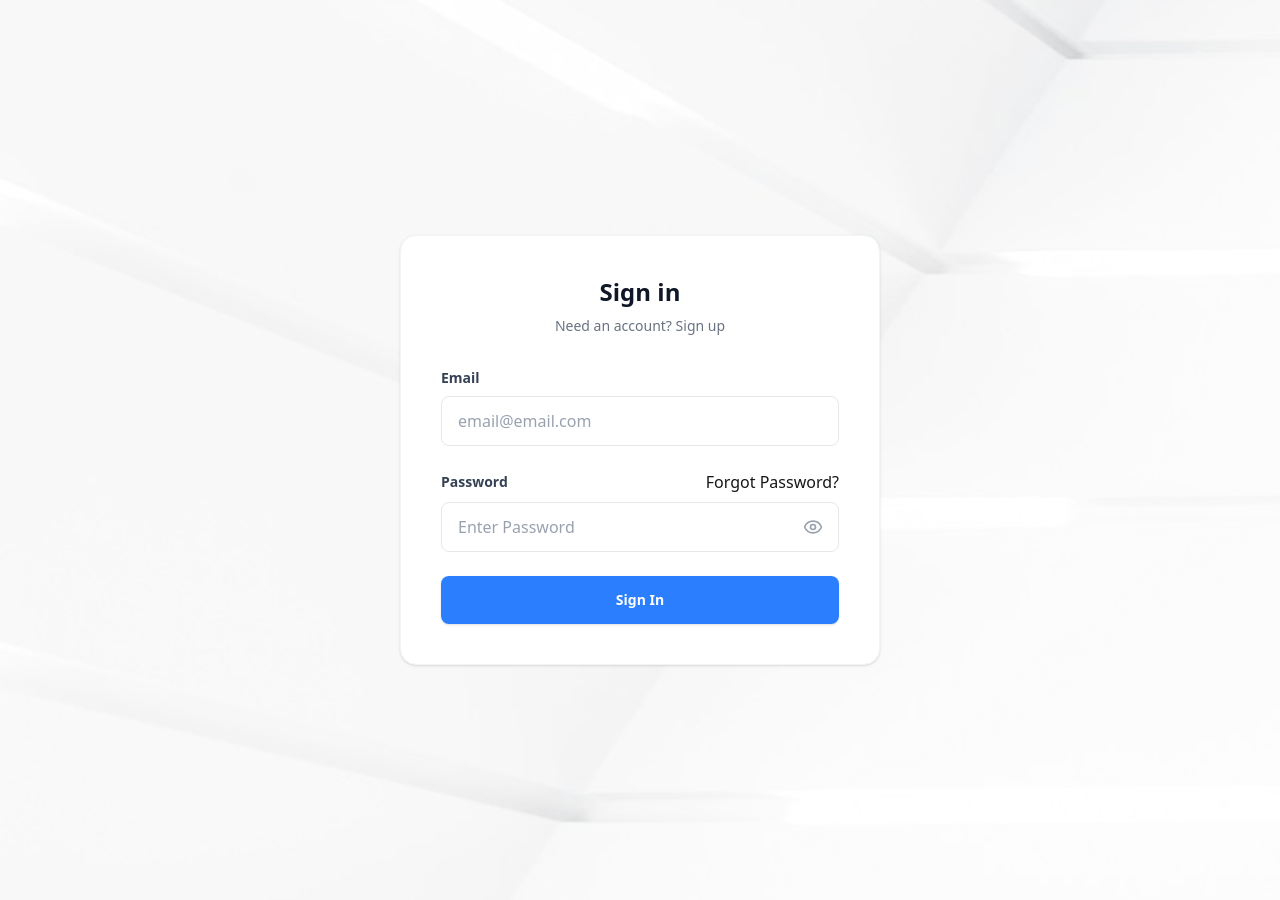
Test: Login Page › handles login error
The image size is (1280, 900).
Type "test@test.com" into the field with placeholder "email@email.com". click: (640,421)
box: [441, 396, 839, 446]
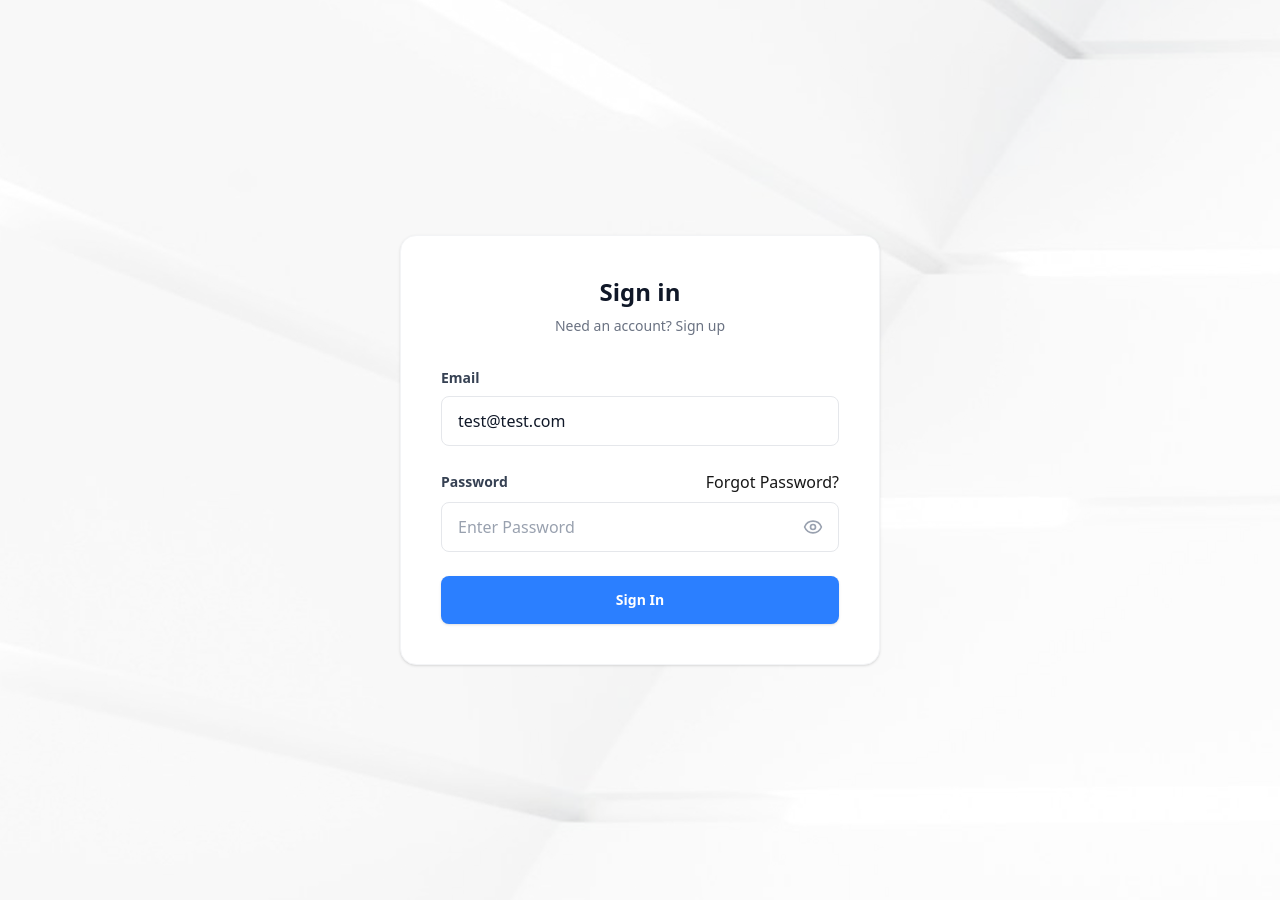
Type "wrongpassword" into the password field with placeholder "Enter Password". click: (640,527)
box: [441, 502, 839, 552]
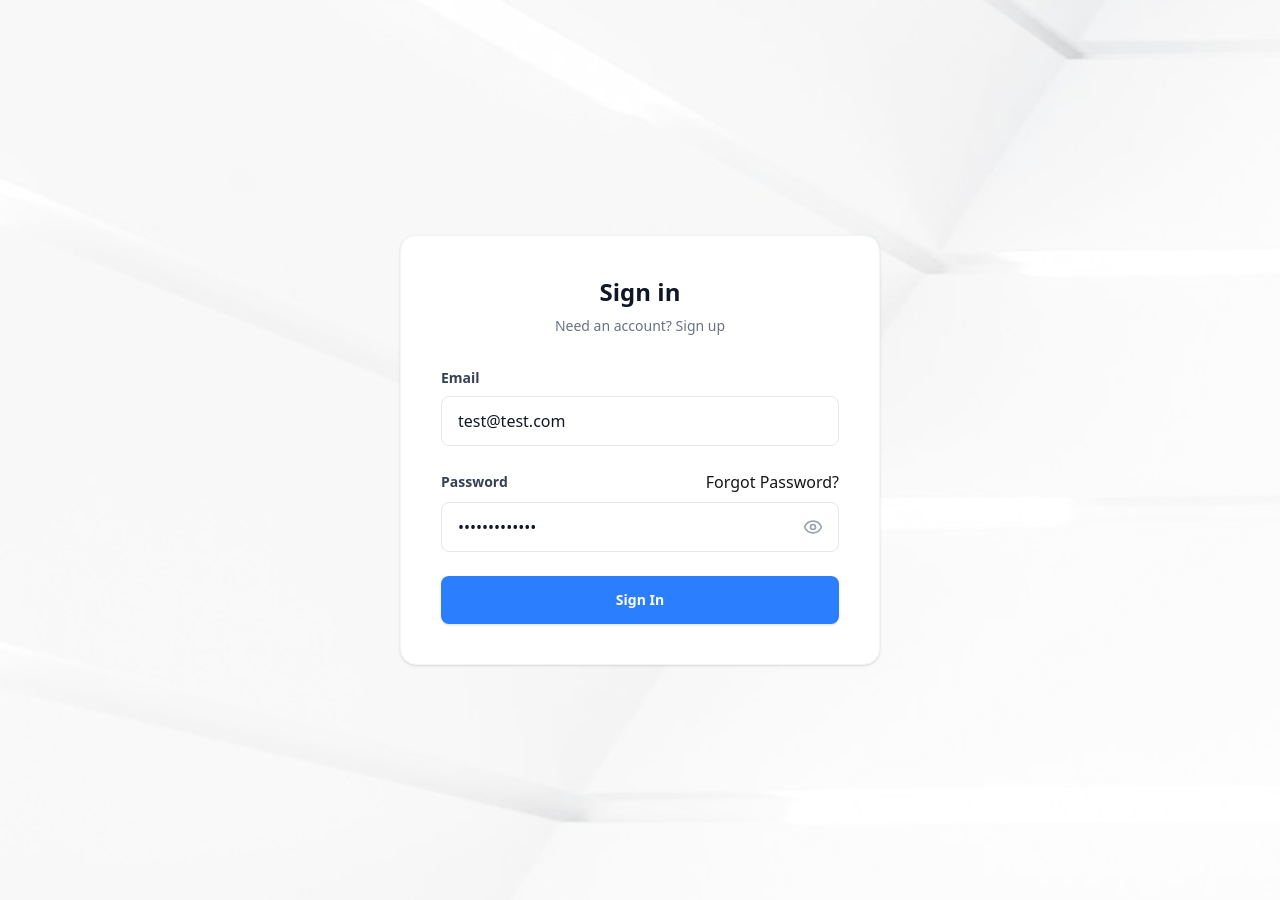
Click the button "Sign In". click: (640,600)
box: [441, 576, 839, 624]
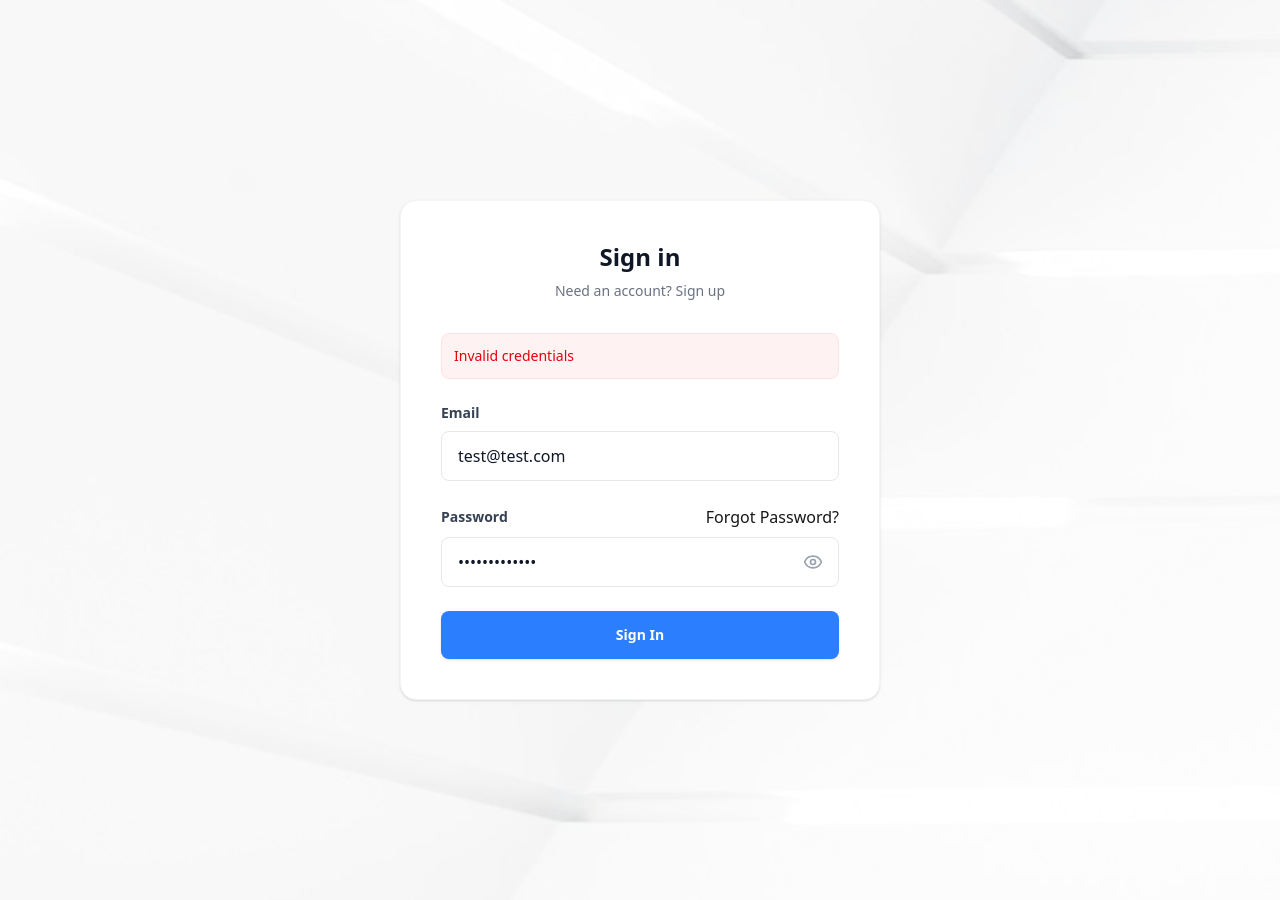
Expected: the text "Invalid credentials" is shown, [441, 333, 839, 379]
